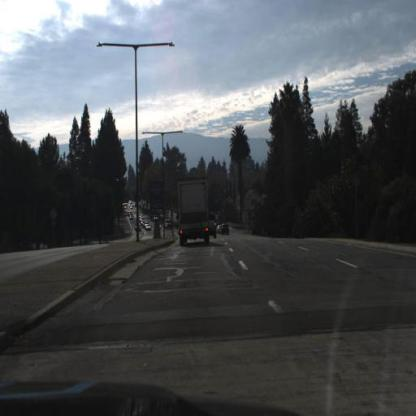car: (211, 215, 219, 238)
truck: (178, 180, 212, 246)
